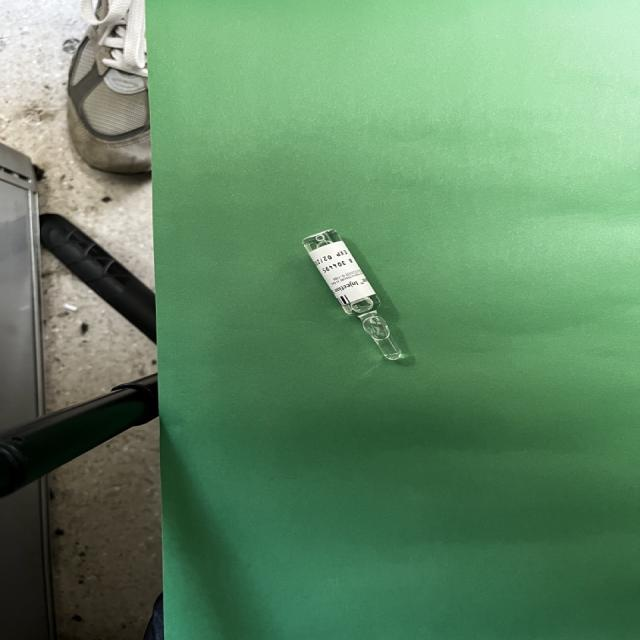Ampoules: (303, 229, 403, 358)
